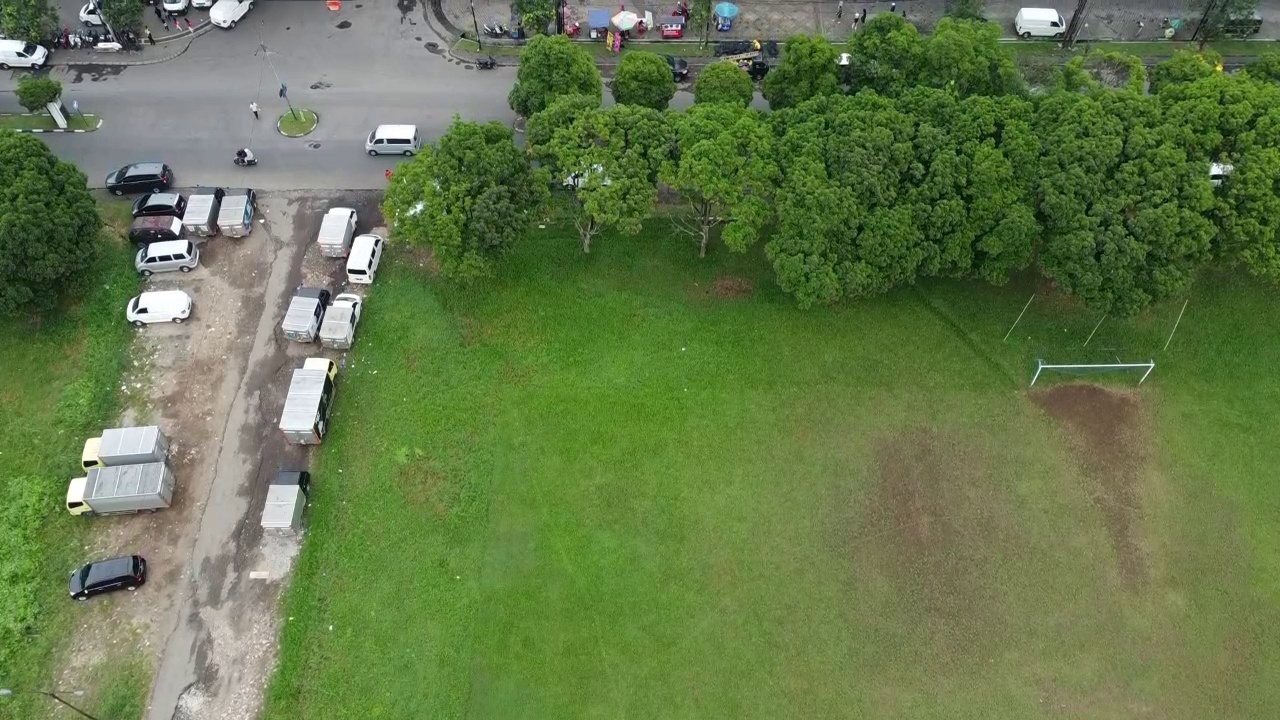mobil: (63, 552, 158, 596), (125, 285, 196, 330), (358, 116, 425, 159), (135, 235, 202, 276), (1011, 2, 1074, 43), (107, 158, 174, 196), (1, 32, 54, 76), (345, 231, 387, 283), (132, 189, 187, 220), (201, 3, 260, 31), (130, 213, 182, 244), (78, 2, 110, 29)
